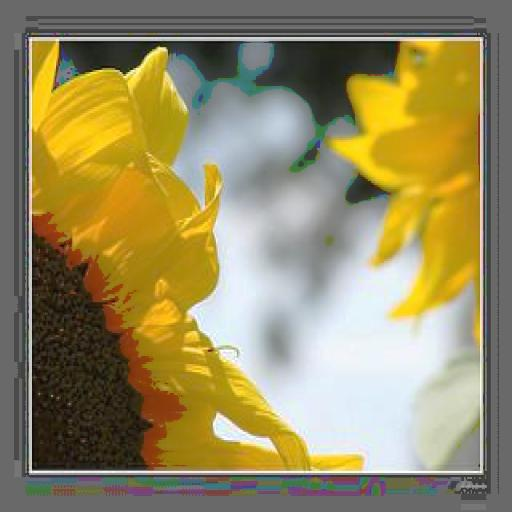sunflower: (30, 37, 364, 471), (344, 39, 478, 346)
